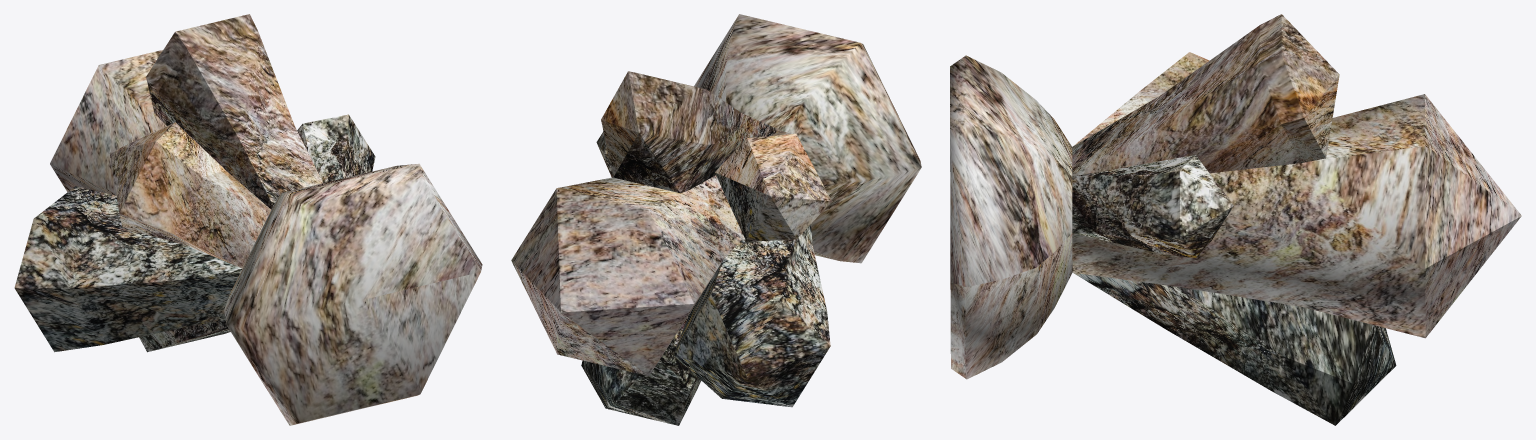
Rendered from Gemstone2.FBX.
The picture shows the model from 3 angles, left to right: view 1: azimuth 30°, elevation 25°; view 2: azimuth 150°, elevation 25°; view 3: azimuth 270°, elevation 25°; orthographic projection. The views are drawn at different scales.
Visible parts, largest first — view 1: Cylinder001; view 2: Cylinder001; view 3: Cylinder001.
Part boxes in pixels (left/top/right/bottom): Cylinder001: left=14, top=14, right=482, bottom=425; Cylinder001: left=511, top=14, right=921, bottom=425; Cylinder001: left=950, top=14, right=1521, bottom=425.
Size of the model in its own units: 1.92 by 1.98 by 2.75.
